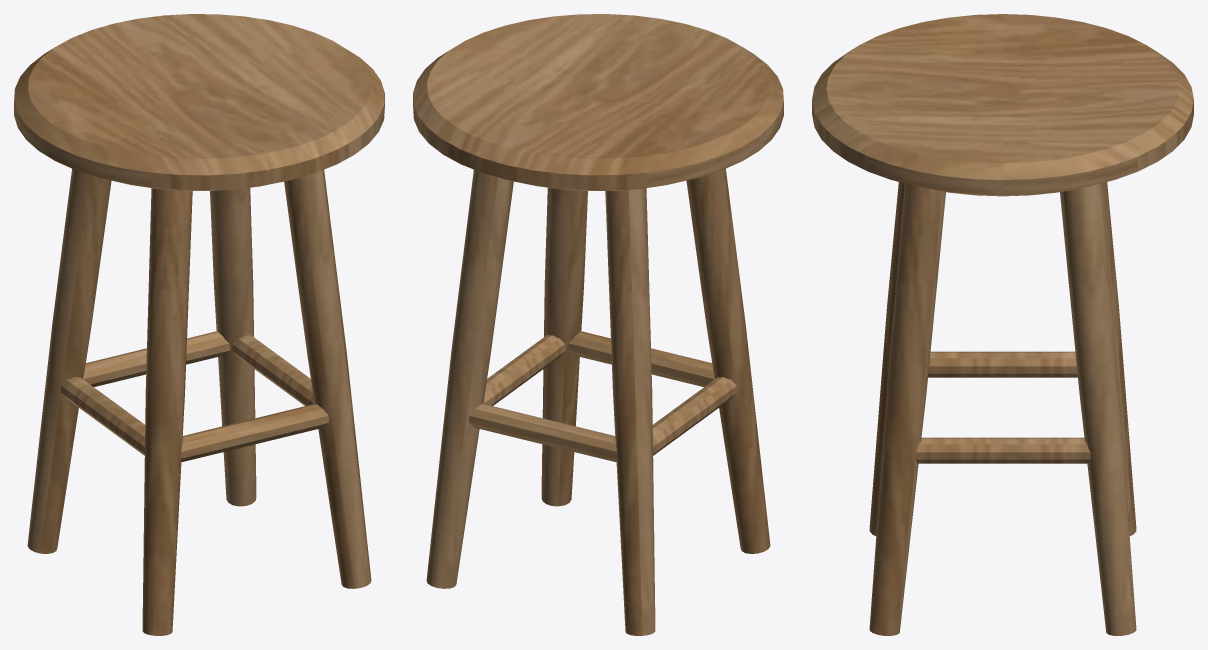
Rendered from taburete_bajo_madera.glb.
3 renders of one model, left to right at view 1: azimuth 30°, elevation 25°; view 2: azimuth 150°, elevation 25°; view 3: azimuth 270°, elevation 25°, orthographic. The views are drawn at different scales.
Visible parts, largest first — view 1: taburete_bajo_madera; view 2: taburete_bajo_madera; view 3: taburete_bajo_madera.
Boxes of the visible parts, <box> form: taburete_bajo_madera: <box>14,14,384,635</box>; taburete_bajo_madera: <box>413,14,783,635</box>; taburete_bajo_madera: <box>812,14,1193,635</box>.
Size of the model in its own units: 0.32 by 0.4566 by 0.32.
1 material, 1 textured.
